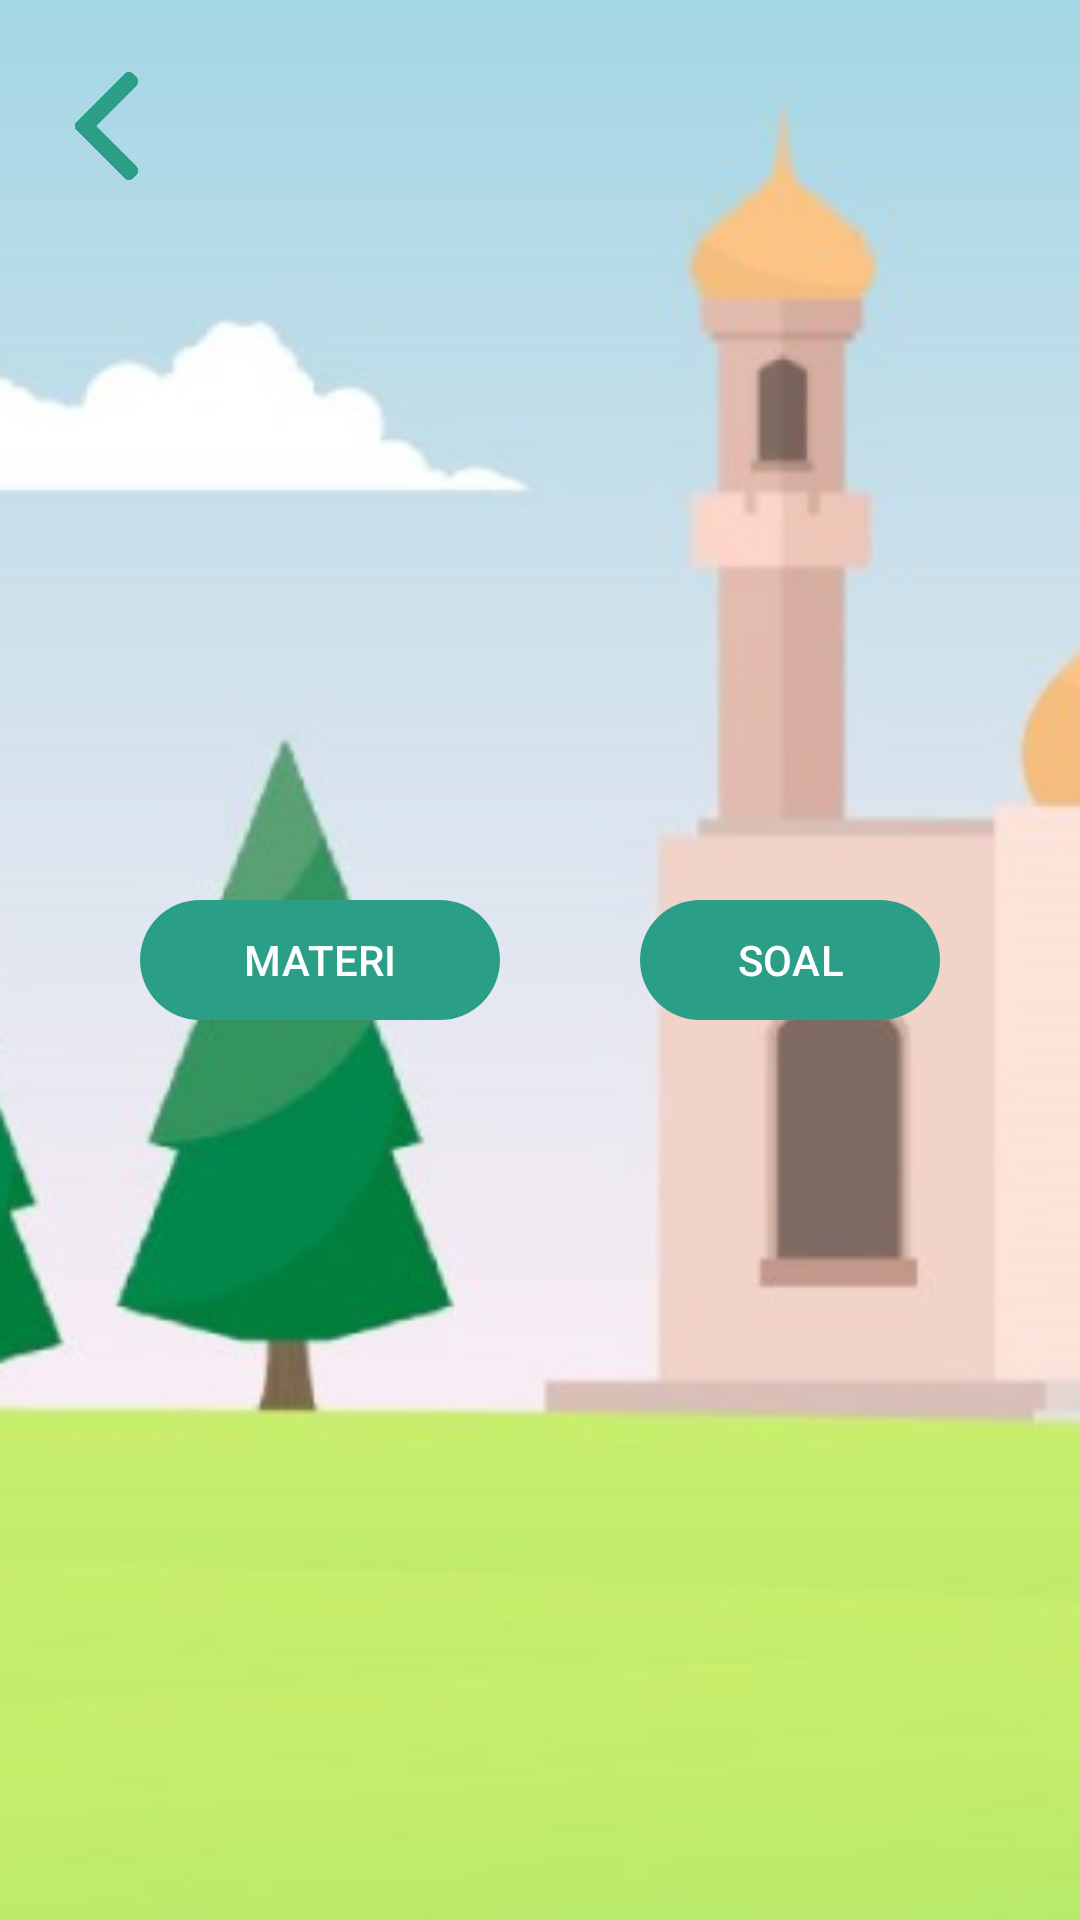

Screen size 1080*1920. Icon name, then its center in pixels as (x=x, y=y):
Kembali: (x=106, y=126)
